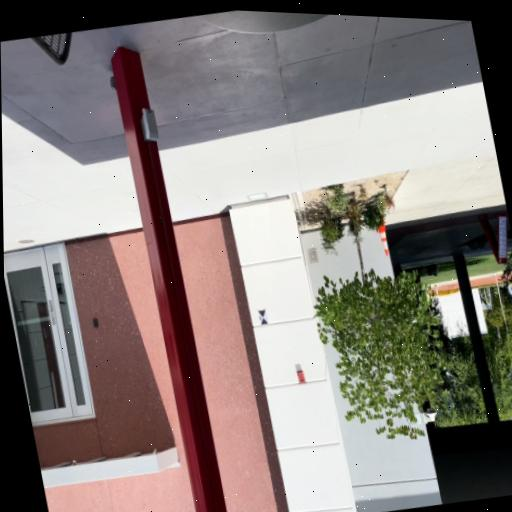target9: (256, 308, 268, 325)
